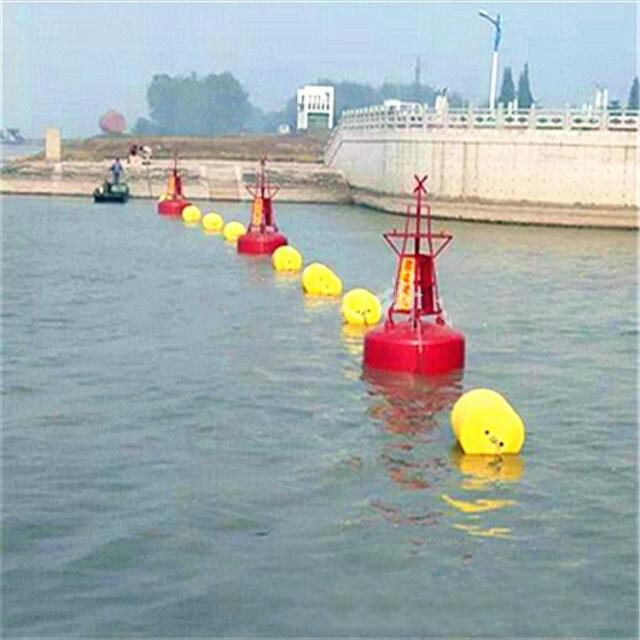buoy: (358, 174, 462, 372), (228, 152, 296, 259), (154, 151, 187, 216)
